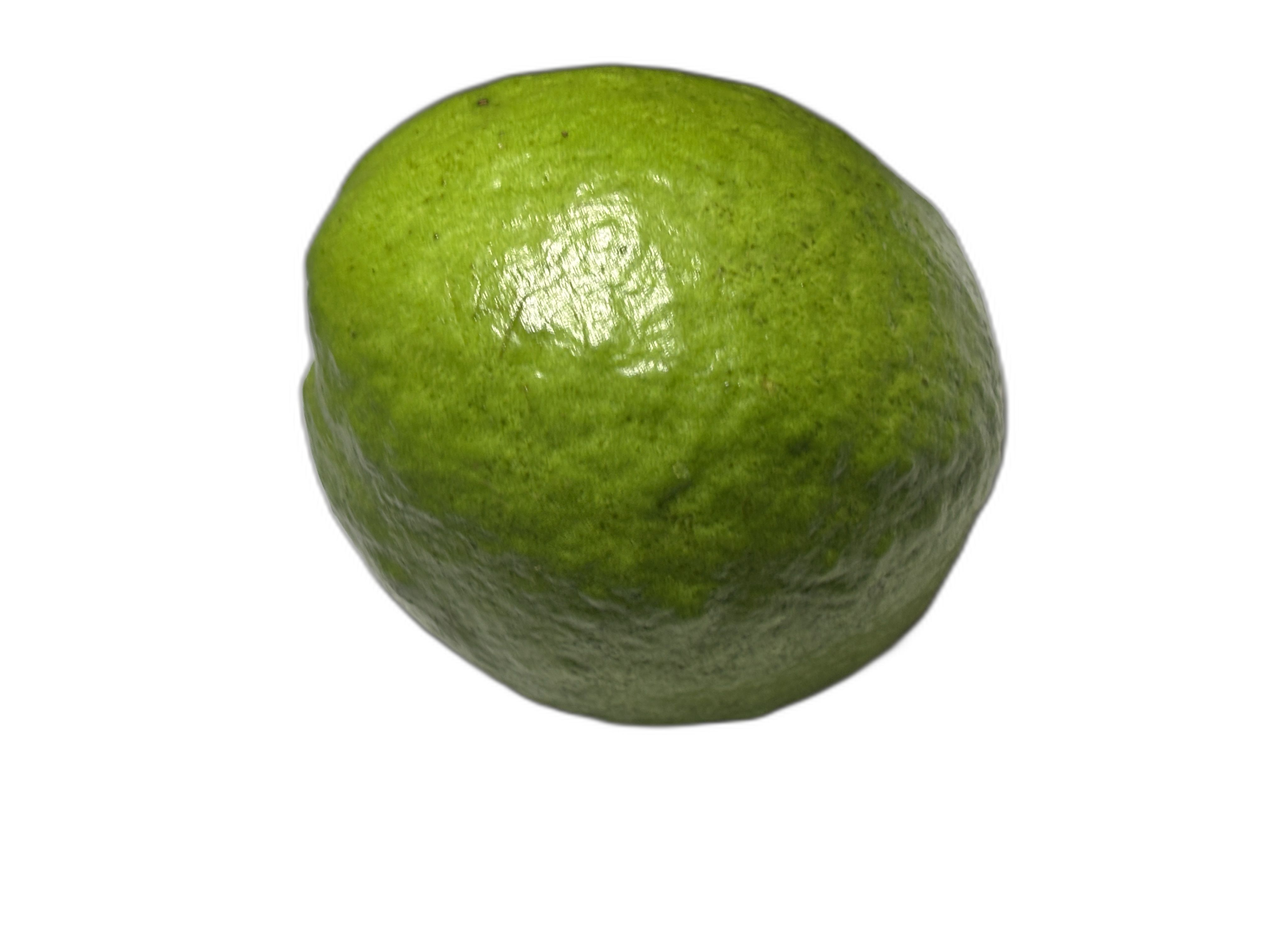guava: (133, 184, 998, 868)
